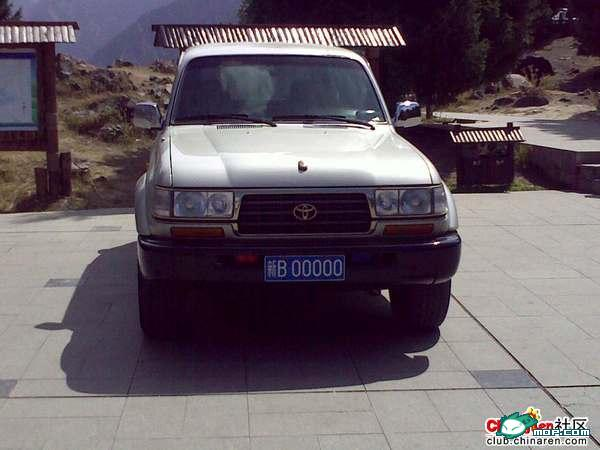plate_number: (263, 253, 346, 281)
